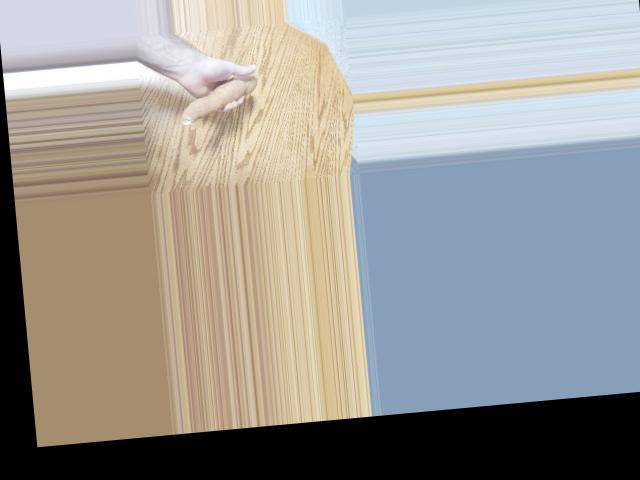sweet_potato: (176, 76, 264, 125)
